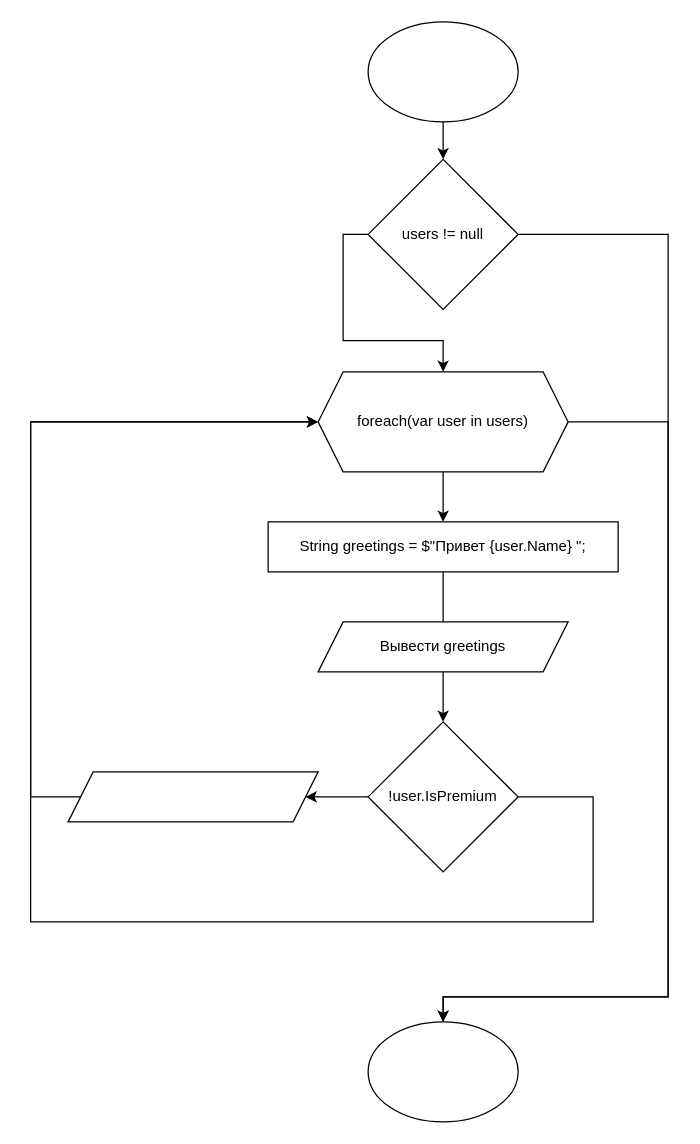
This 700x1144 diagram has some shape labels left out. The shapes that lost their labels are listed below. From the top down, each one's centre as x and y in pixels, then its label:
At (442,71): "Начало".
At (192,796): "ShowAds()".
At (442,1071): "Конец".
